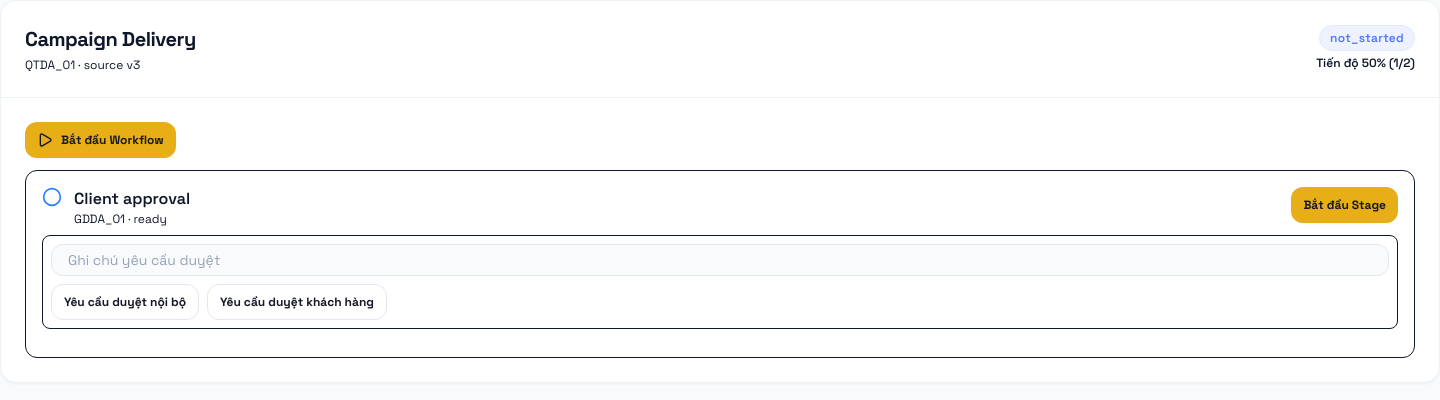
Test: ProjectWorkflowPanel › starts a Workflow and Stage, then completes the eligible Stage with a refresh after each action
Click the button "Bắt đầu Workflow" at [100, 140], box [25,122,176,158]
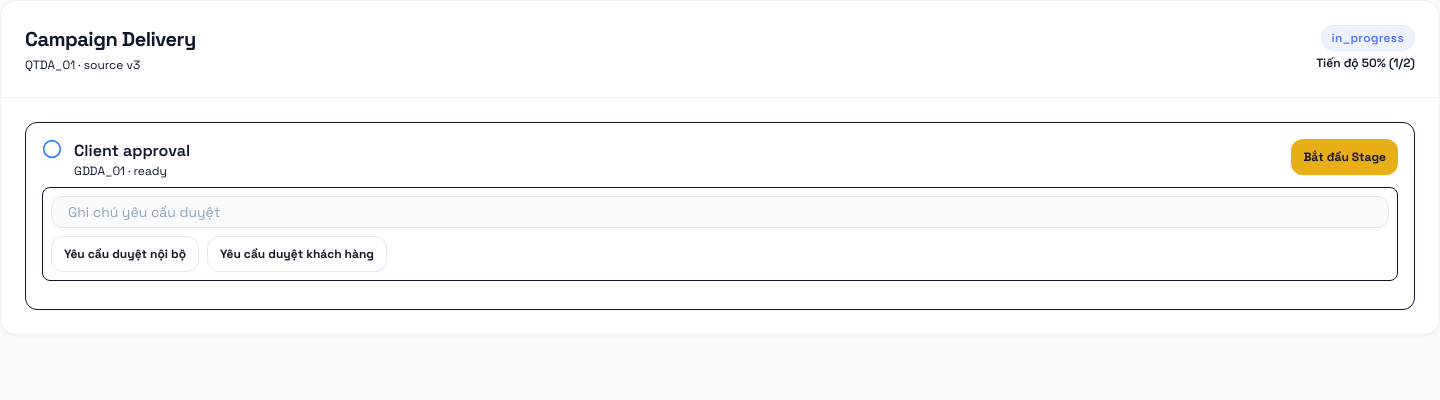
Click the button "Bắt đầu Stage" at [1345, 157], box [1291,139,1398,175]
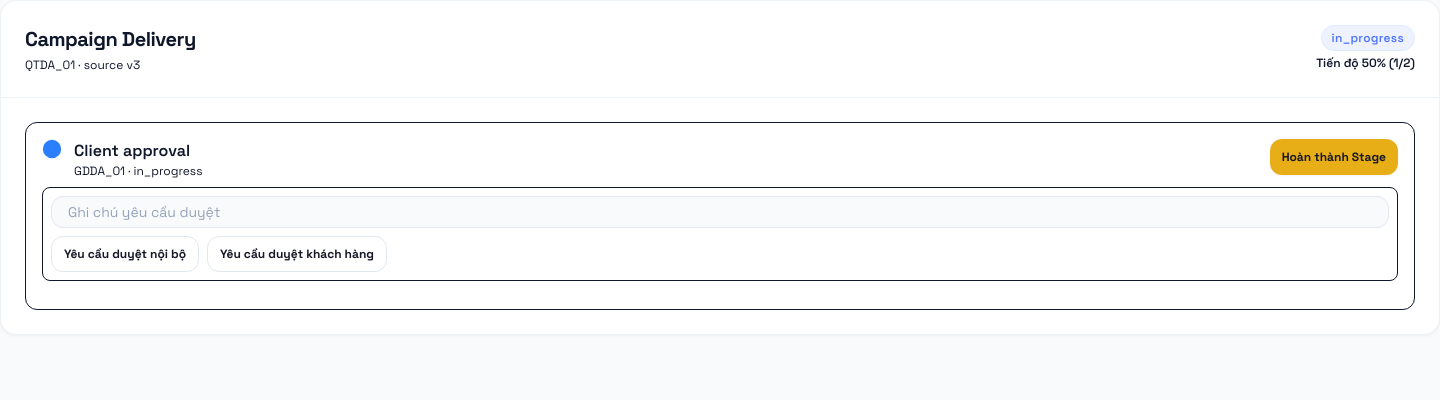
Click the button "Hoàn thành Stage" at [1334, 157], box [1270,139,1398,175]
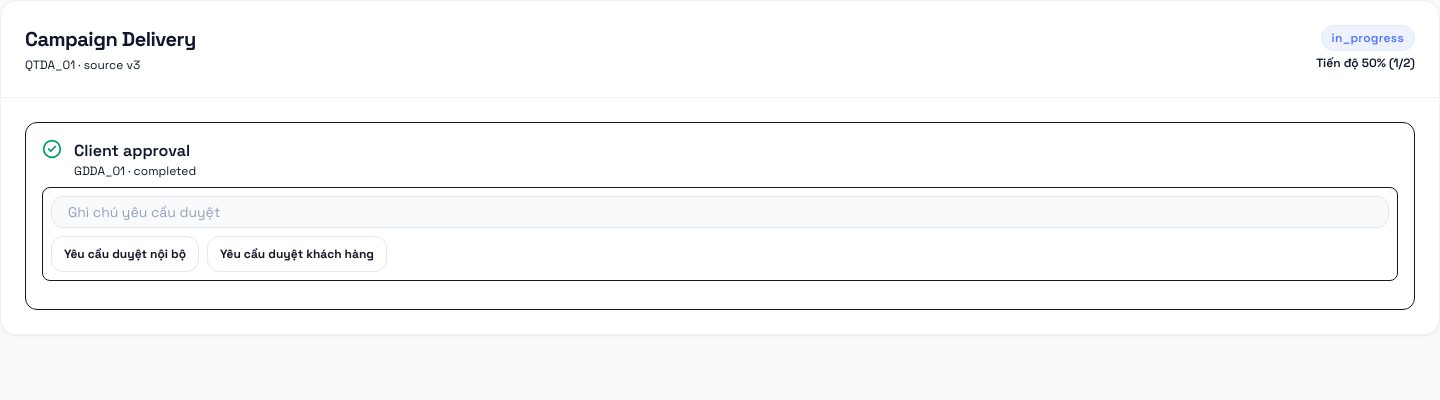
Expected: the element with test id "project-stage-completed" is shown, [25,122,1415,310]
